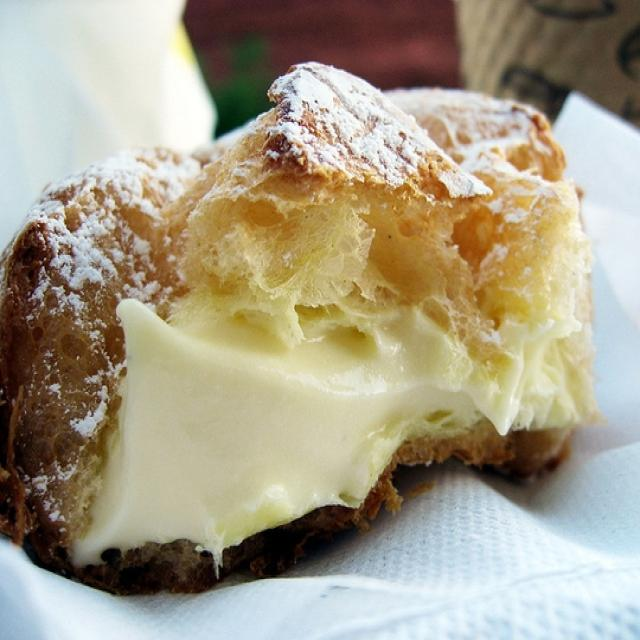炸货点心: (3, 36, 620, 621)
蛋糕甜品: (3, 36, 620, 621)
